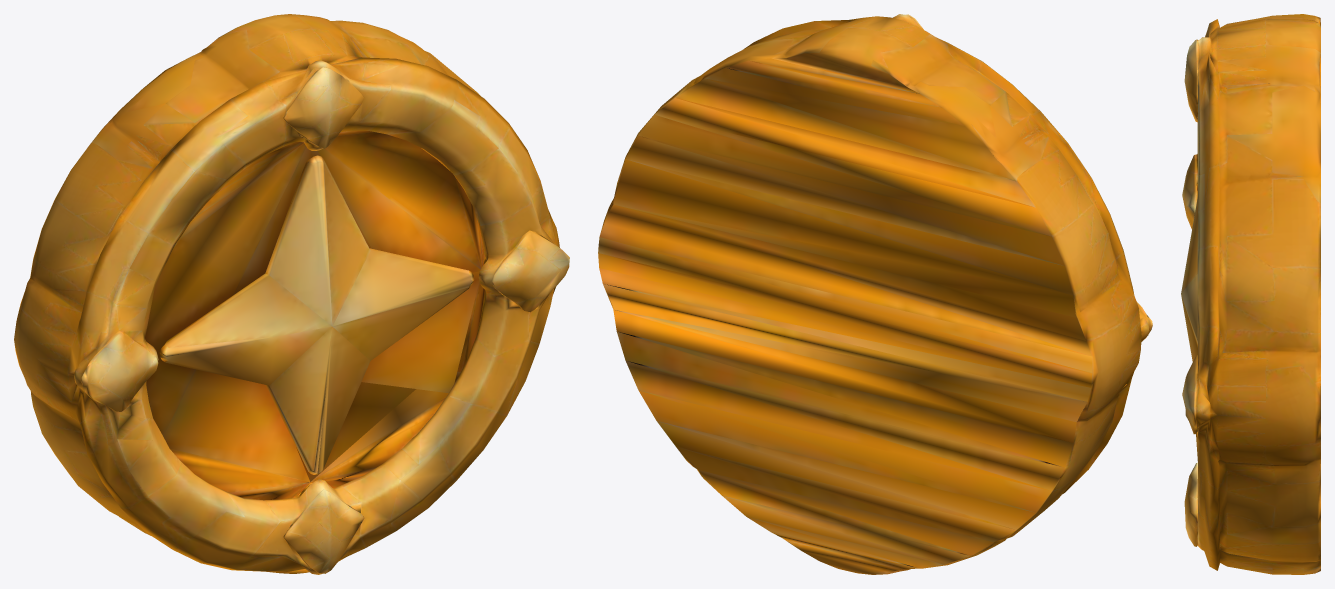
Rendered from star-coin.web.glb.
3 views of the same model, side by side, from view 1: azimuth 30°, elevation 25°; view 2: azimuth 150°, elevation 25°; view 3: azimuth 270°, elevation 25° (orthographic).
Parts seen in each view (by area): view 1: ItemBody; view 2: ItemBody; view 3: ItemBody.
Boxes of the visible parts, x1,y1,x2,y2 form: ItemBody: [14, 14, 569, 574]; ItemBody: [598, 14, 1152, 574]; ItemBody: [1181, 14, 1320, 574].
Bounding box in the file's own units: 0.1407 × 0.14 × 0.0337.
1 material, 1 textured.
